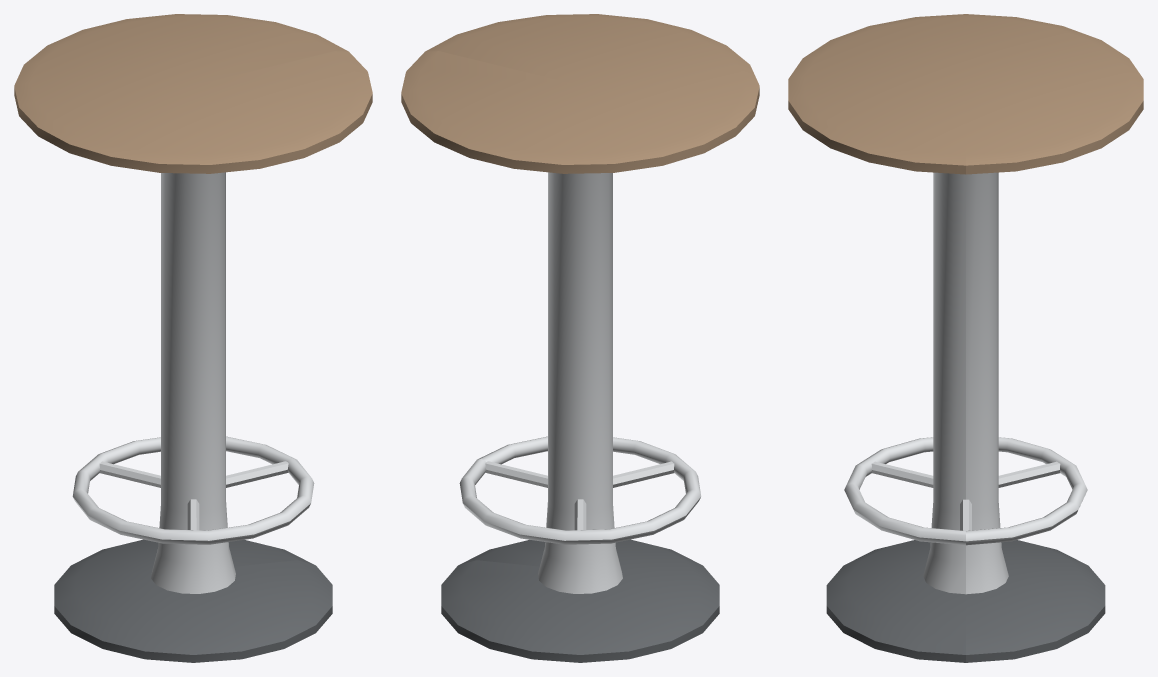
Rendered from restaurant-kitchen-and-dining-high-bar-table-1a2ed676__16495.glb.
3 renders of one model, left to right at view 1: azimuth 30°, elevation 25°; view 2: azimuth 150°, elevation 25°; view 3: azimuth 270°, elevation 25°, orthographic.
Parts seen in each view (by area): view 1: high-bar-table; view 2: high-bar-table; view 3: high-bar-table.
Part boxes in pixels (bbox=[...]): high-bar-table: bbox=[14, 14, 372, 662]; high-bar-table: bbox=[401, 14, 759, 662]; high-bar-table: bbox=[788, 14, 1143, 662].
Size of the model in its own units: 0.66 by 1.05 by 0.6533.
